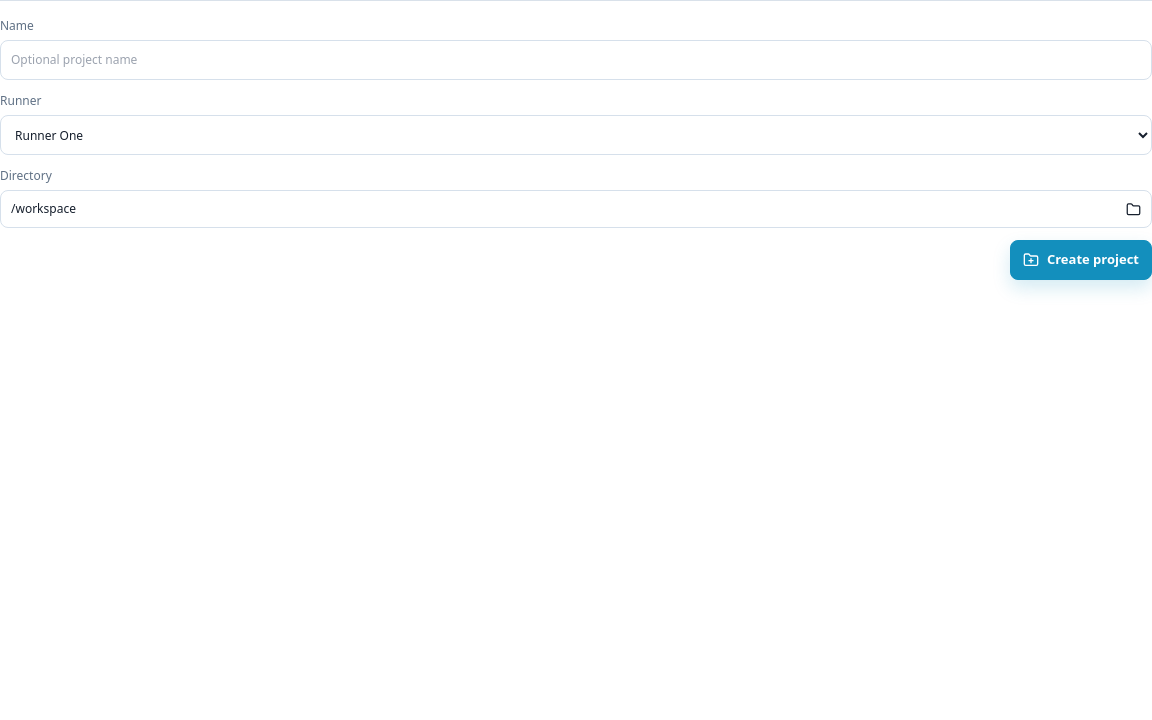
ProjectForm › hides RoamCli generated folders in the directory picker
This screenshot has width=1152, height=720.
Click the button named "Directory".
click(43, 208)  # box [0,190,1151,228]
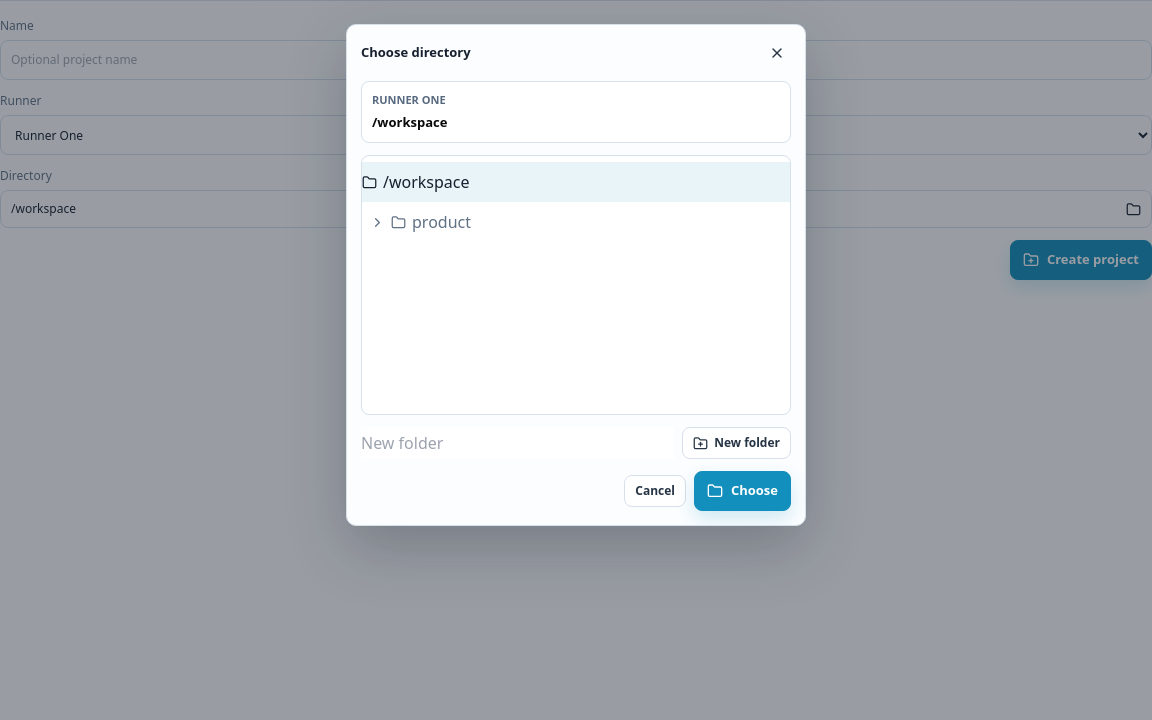
Check: the list item "product" is shown, box [362,202,790,242]
